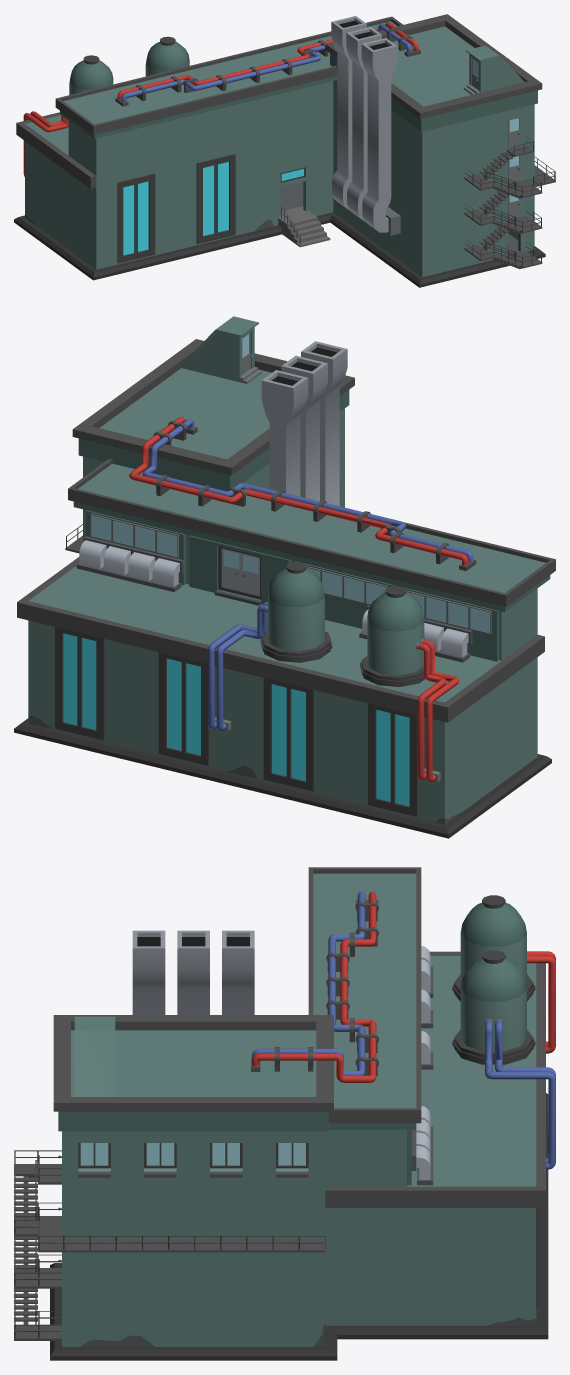
The model's file is SM_Buildings_Factory_03.fbx.
The picture shows the model from 3 angles, top to bottom: view 1: azimuth 30°, elevation 25°; view 2: azimuth 150°, elevation 25°; view 3: azimuth 270°, elevation 25°; orthographic projection. The views are drawn at different scales.
Visible parts, largest first — view 1: SM_Buildings_Factory_03; view 2: SM_Buildings_Factory_03; view 3: SM_Buildings_Factory_03.
Part boxes in pixels (x1,y1,x2,y2): SM_Buildings_Factory_03: [14, 14, 555, 287]; SM_Buildings_Factory_03: [14, 316, 555, 838]; SM_Buildings_Factory_03: [14, 867, 555, 1360].
Size of the model in its own units: 26.45 by 14.99 by 22.62.
